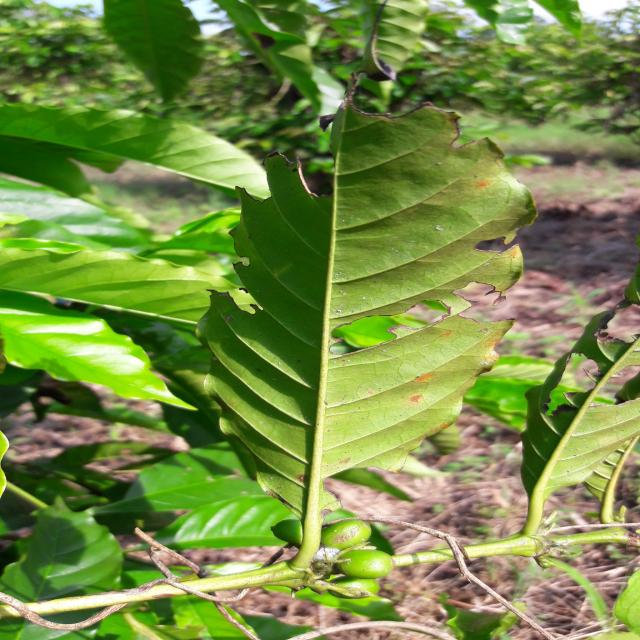Enfermedad-Roya: (201, 107, 537, 560)
